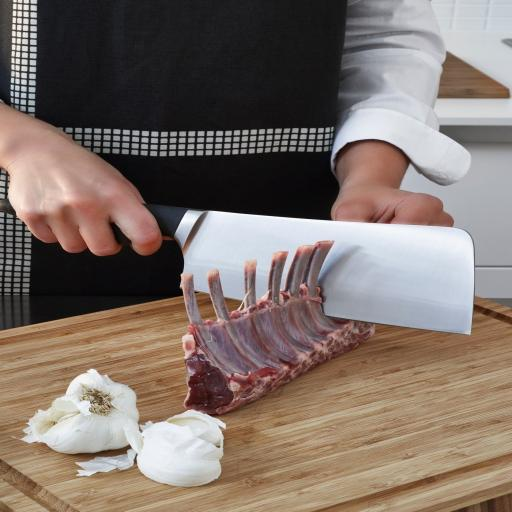knife: (158, 209, 484, 345)
